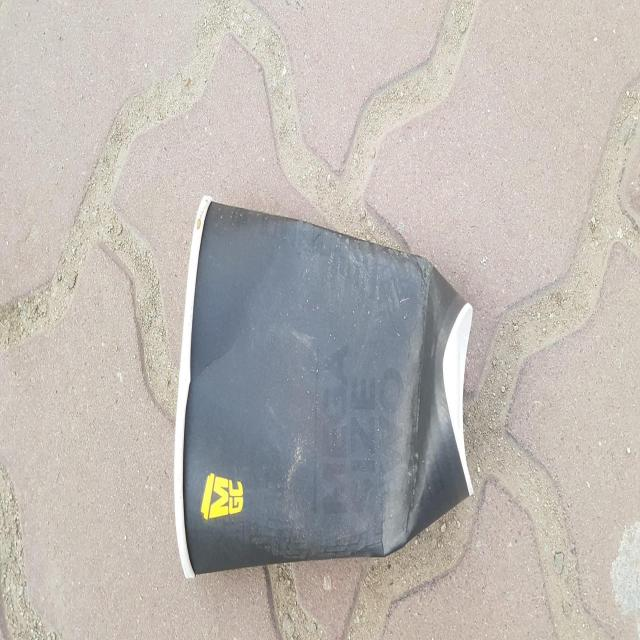paperpack: (174, 196, 474, 578)
